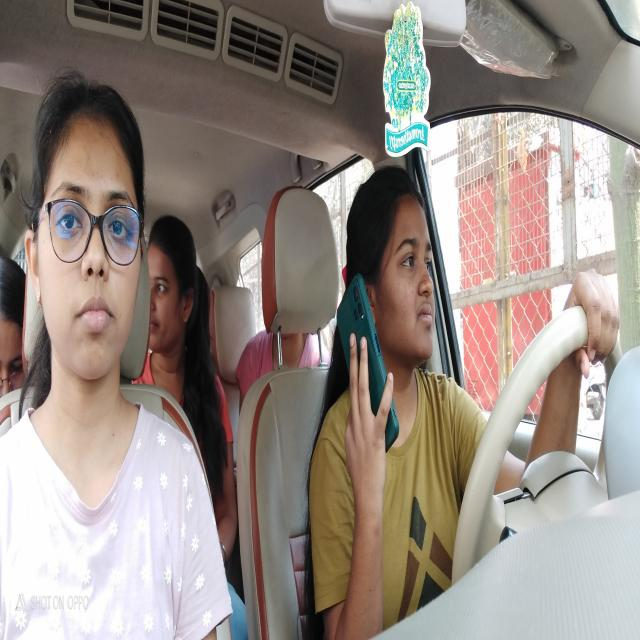mobile: (336, 278, 401, 465)
person: (28, 76, 145, 398), (344, 162, 442, 396), (148, 212, 198, 384), (0, 244, 26, 403)
